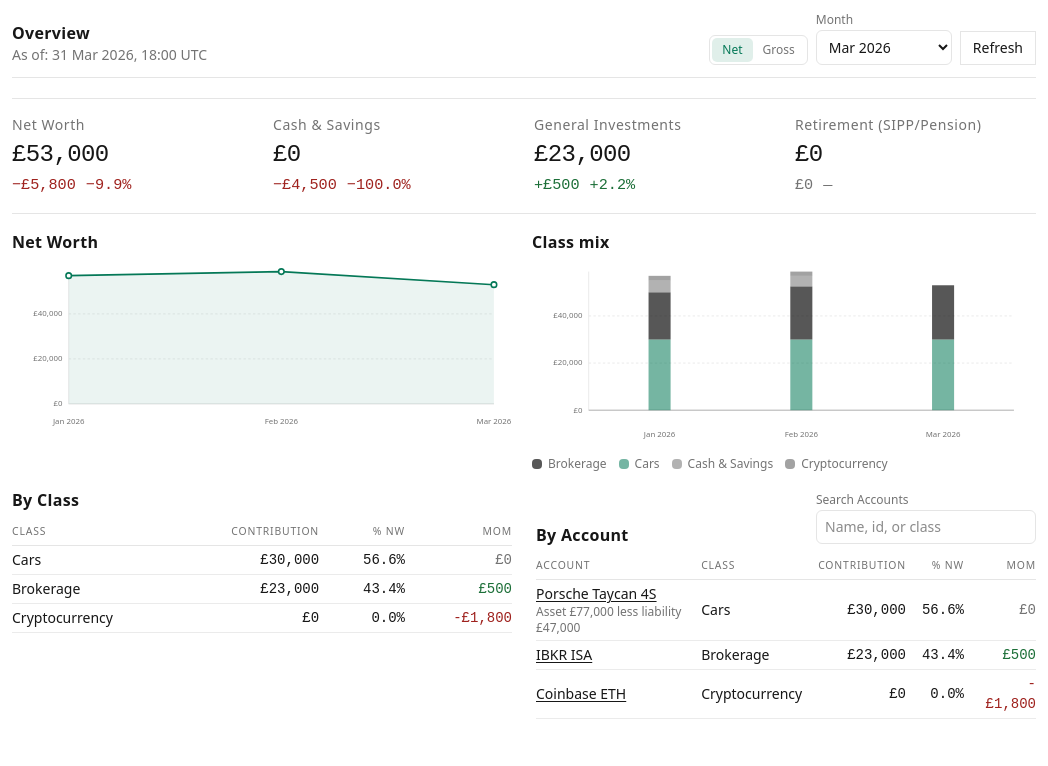
WmwOverview › Refresh month selection › moves forward to a newly available month when viewing the latest
The image size is (1048, 766).
Expected: the dropdown labelled "Month" shows "Mar 2026", [816,30,952,65]
Click the button "Refresh".
click(998, 48)  # box [960,31,1036,65]
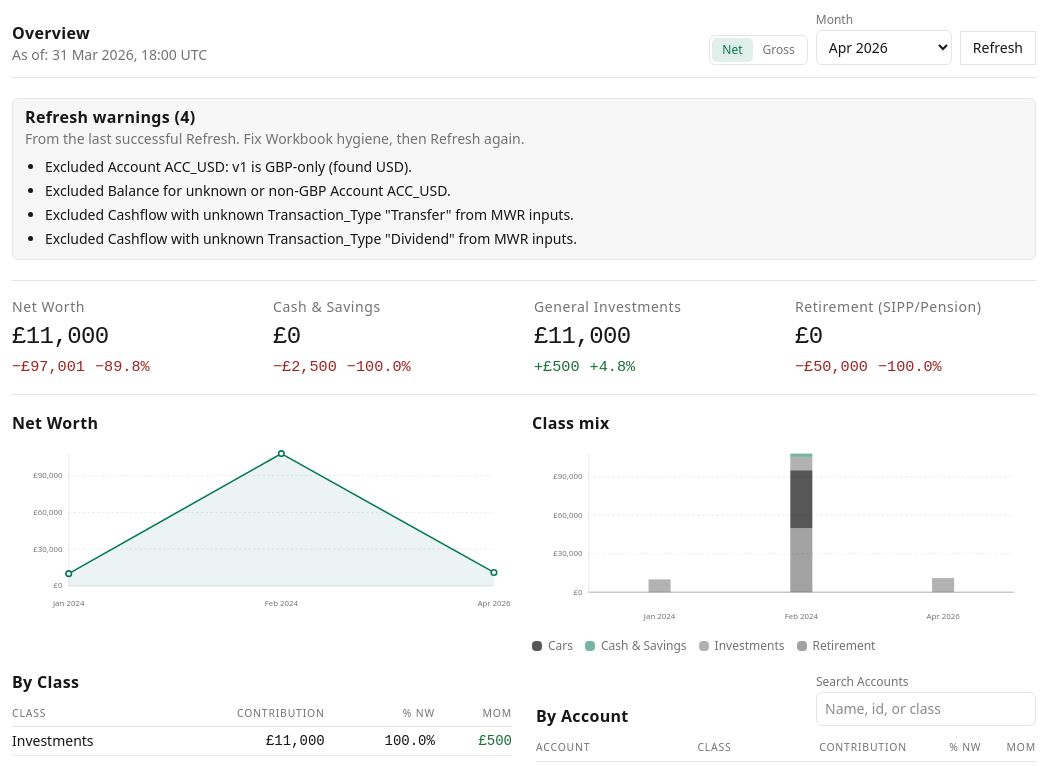
Result: the dropdown labelled "Month" shows "Apr 2026" at [816,30,952,65]
